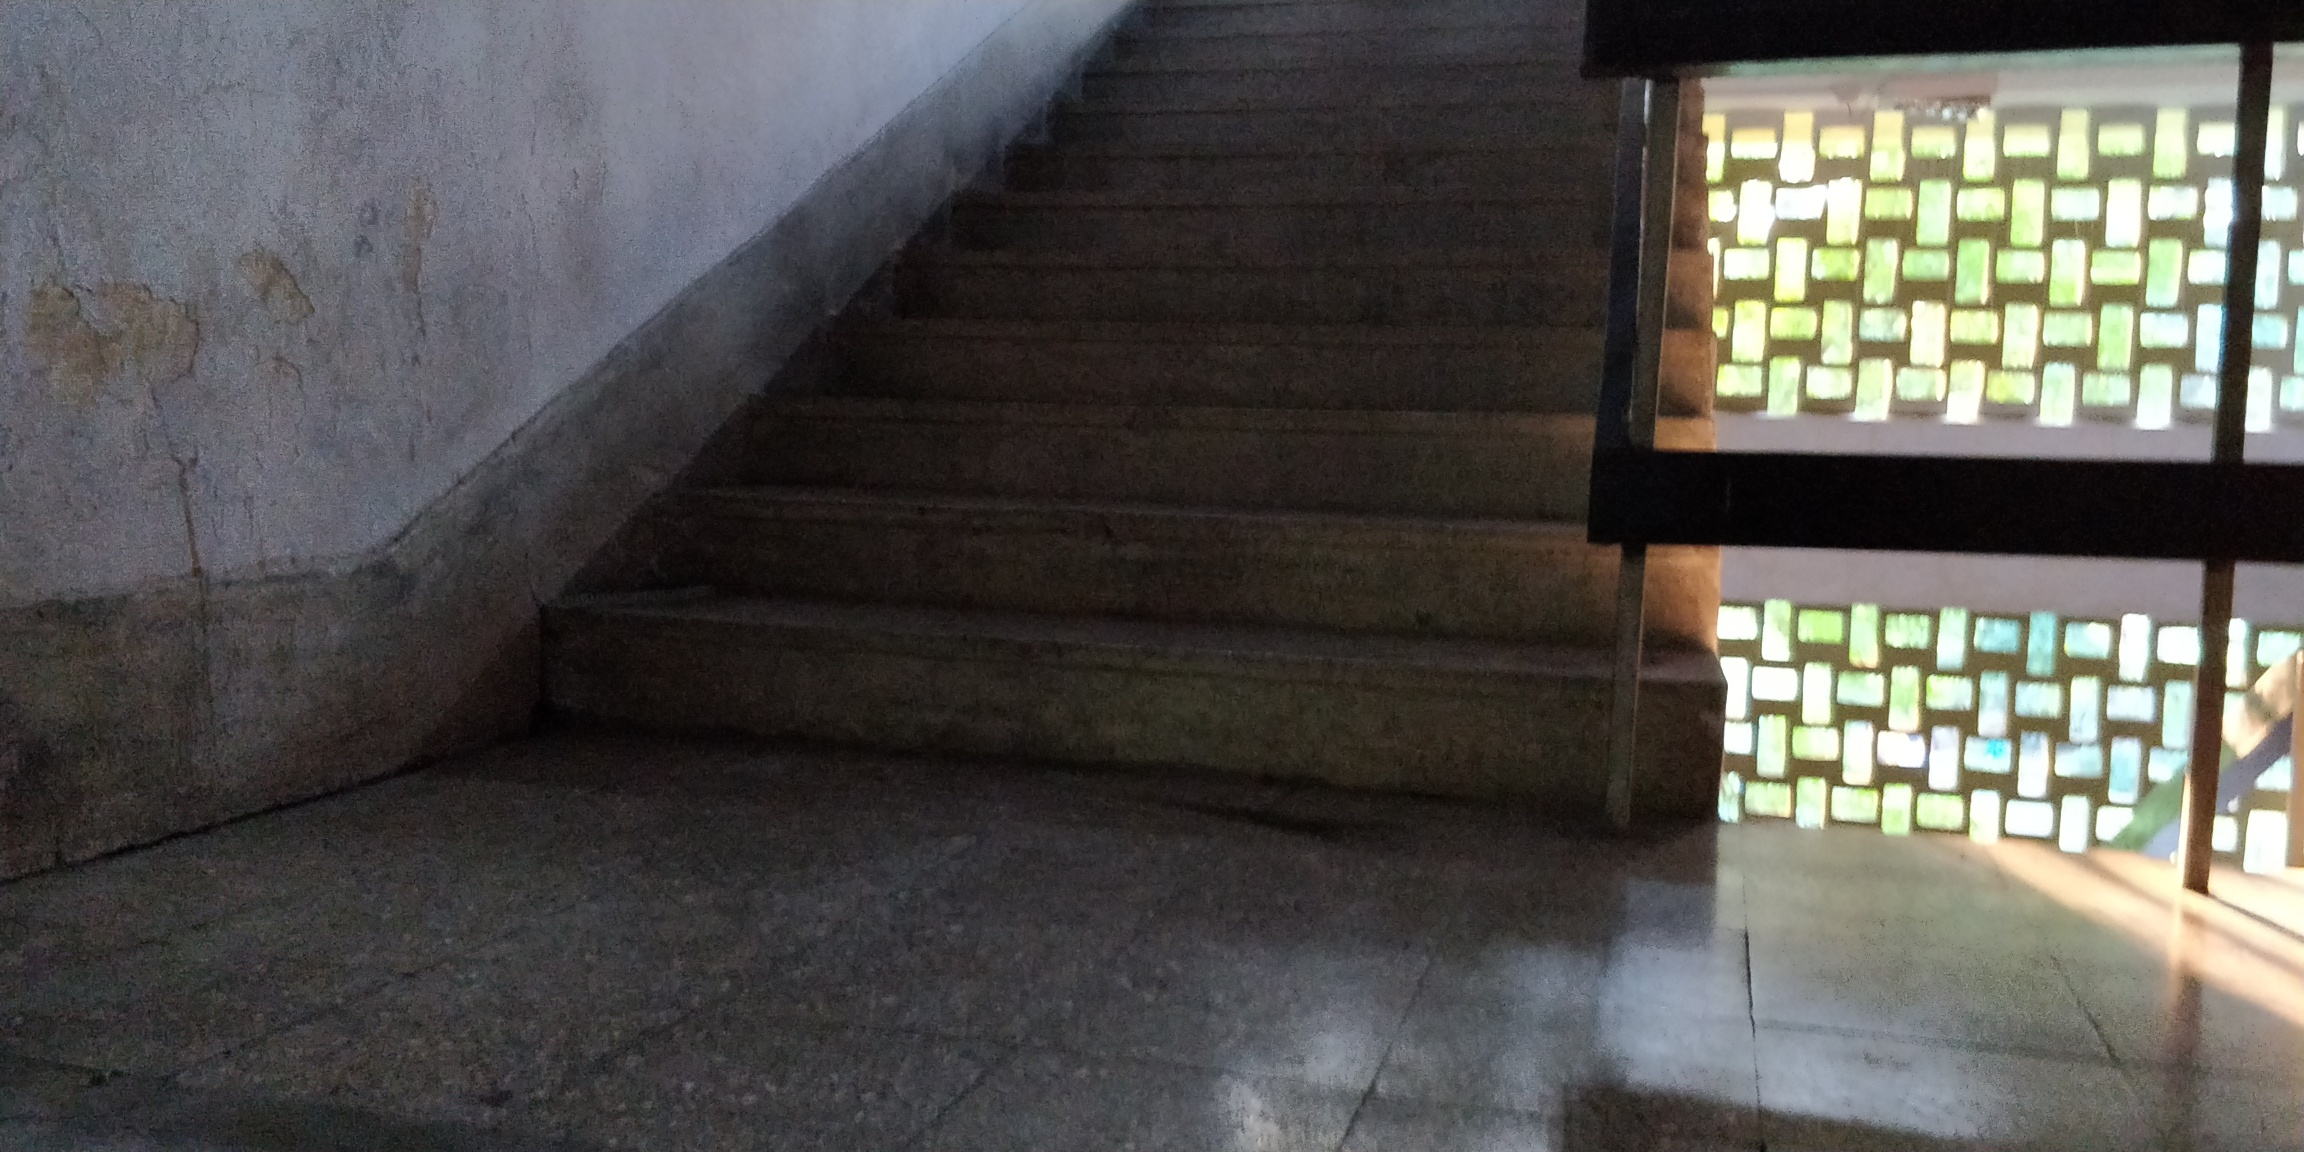stairs_up: (530, 16, 1622, 771)
